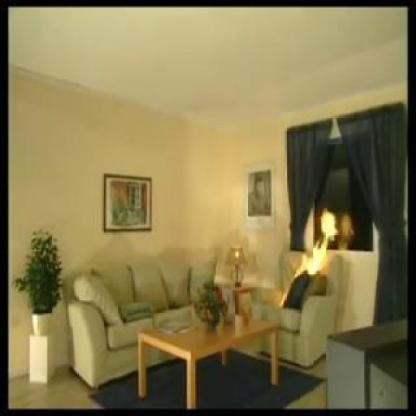Fire: (297, 204, 339, 280)
